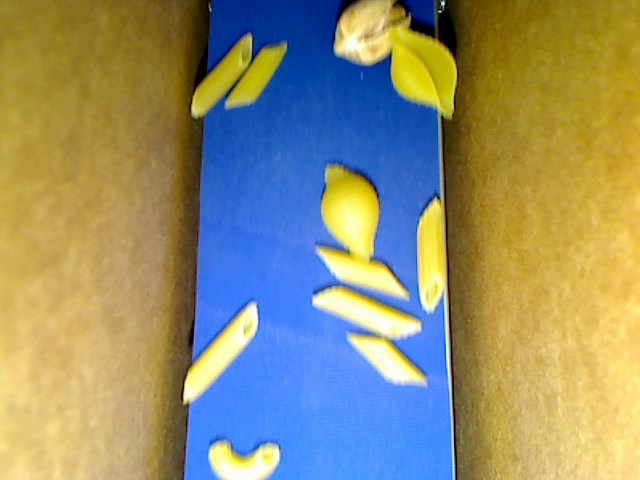elbow: (208, 439, 280, 479)
penne: (181, 300, 259, 405), (311, 284, 421, 341), (191, 32, 254, 118), (314, 245, 408, 299), (225, 42, 287, 107), (347, 335, 426, 386), (416, 197, 445, 314)
shell: (389, 27, 458, 119), (322, 163, 379, 259)
